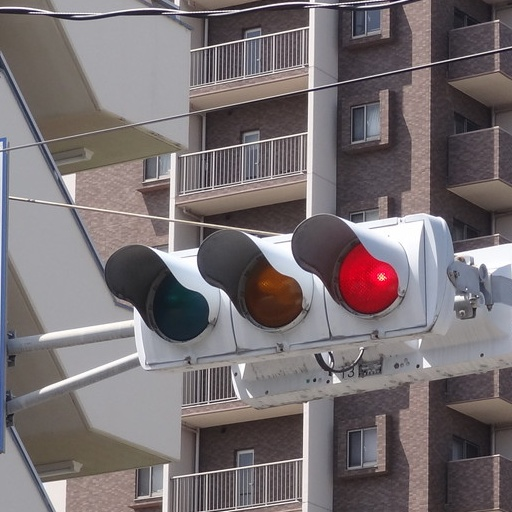Traffic_Signal_Red: (134, 209, 441, 341)
